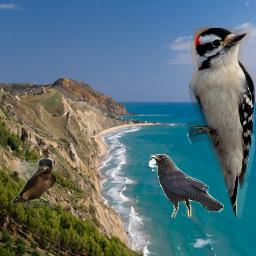Crow: (150, 154, 224, 218)
Swallow: (11, 158, 56, 209)
Woodpecker: (187, 27, 255, 218)
